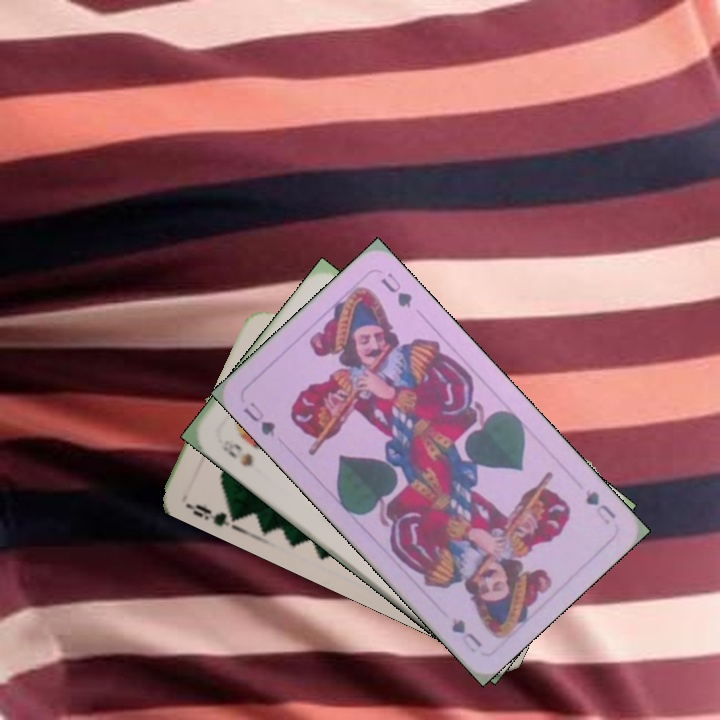G9: (181, 499, 239, 531)
GU: (239, 398, 278, 440), (581, 485, 619, 527)
S8: (217, 439, 256, 469)
